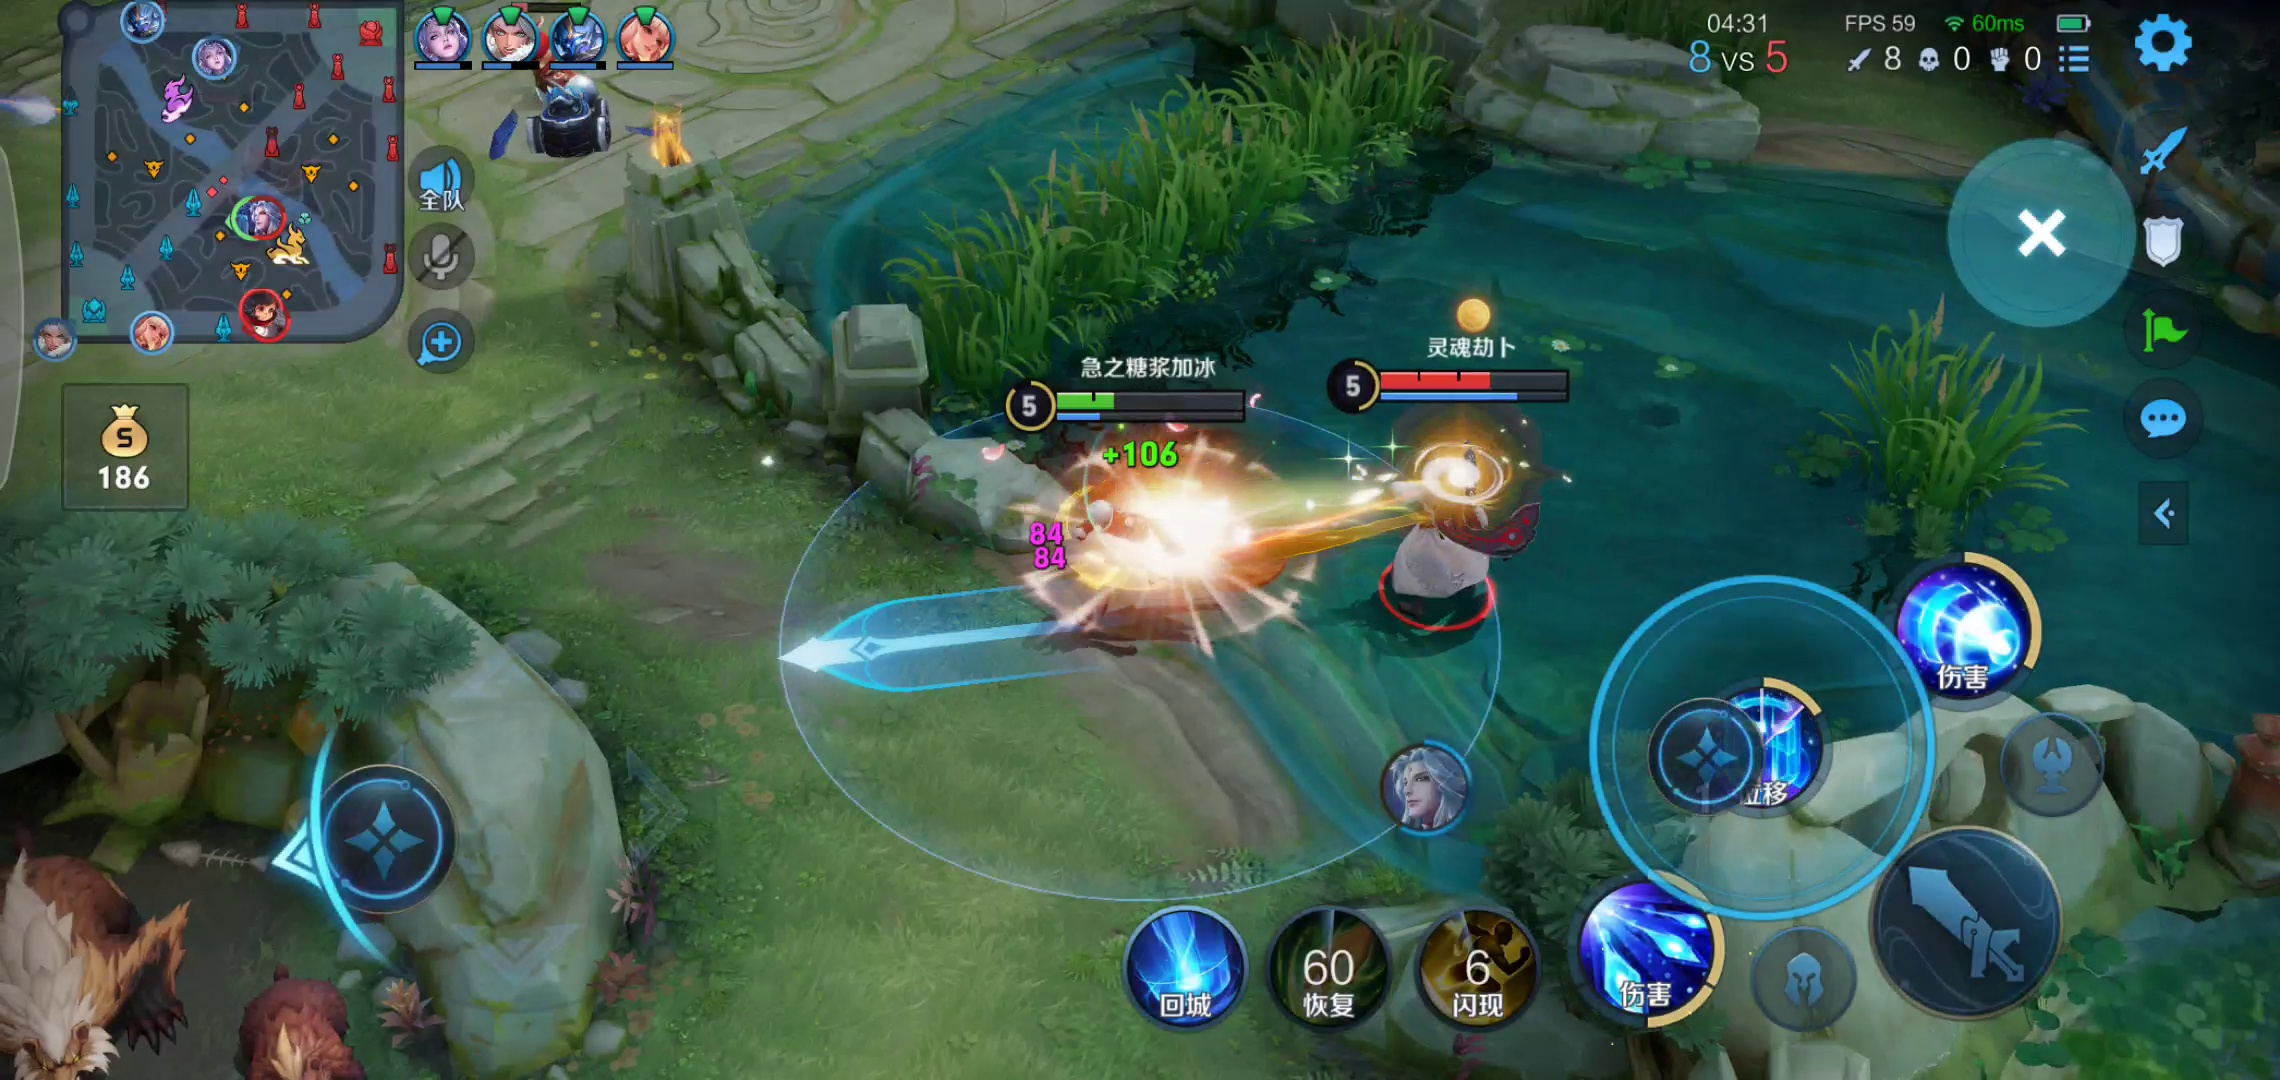grass: (865, 44, 1469, 394), (1794, 327, 2063, 547)
hero: (984, 451, 1298, 672), (1364, 433, 1536, 628)
soldier: (518, 81, 654, 140)
wild_monster: (1, 808, 412, 1080)
